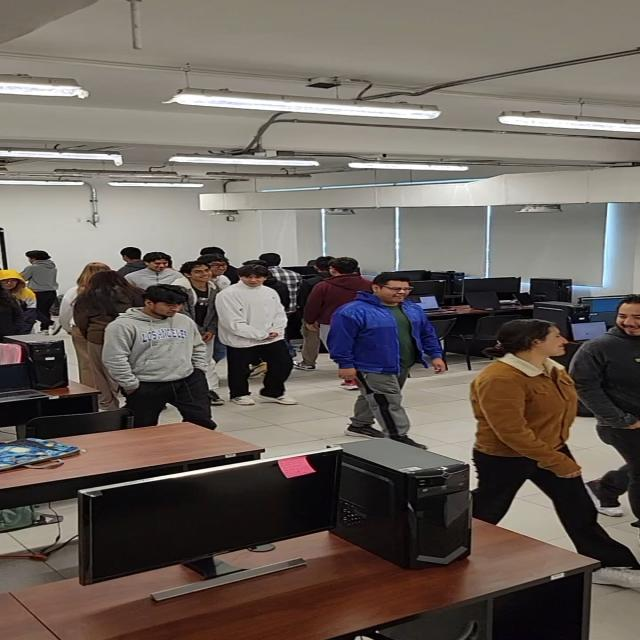Persona: (464, 318, 610, 566), (324, 269, 434, 443), (105, 277, 214, 430), (570, 300, 640, 532), (213, 263, 300, 412), (69, 272, 117, 385), (25, 246, 61, 338), (0, 268, 41, 341)
